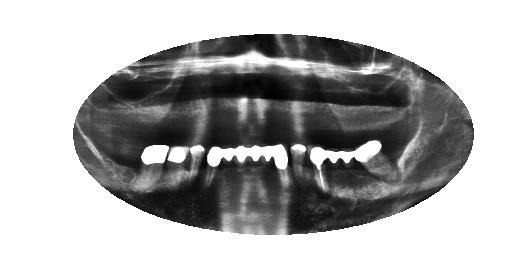Fillings: (353, 139, 398, 183), (265, 140, 290, 190), (140, 146, 171, 186), (206, 143, 223, 197), (234, 144, 251, 194), (224, 139, 238, 195), (329, 145, 343, 190), (251, 144, 263, 191)
Implant: (308, 145, 330, 194)
